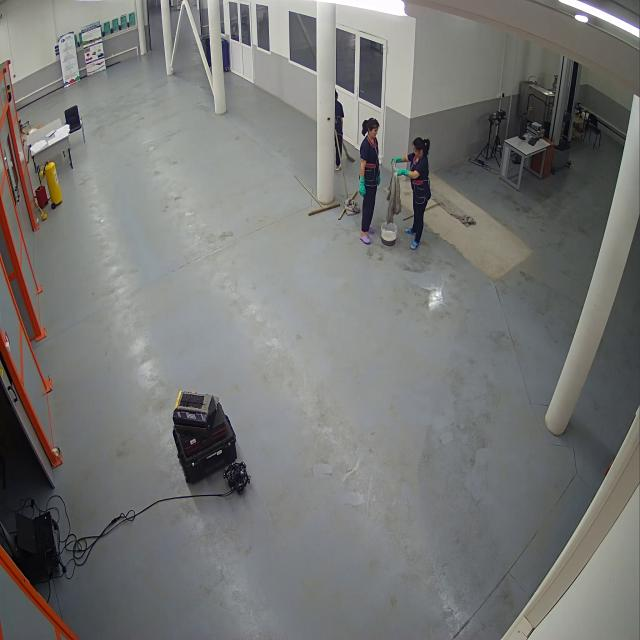NO-Hardhat: (412, 138, 433, 152), (364, 117, 381, 128), (336, 89, 340, 97)
Person: (393, 136, 432, 252), (358, 116, 381, 243), (335, 85, 348, 174)
